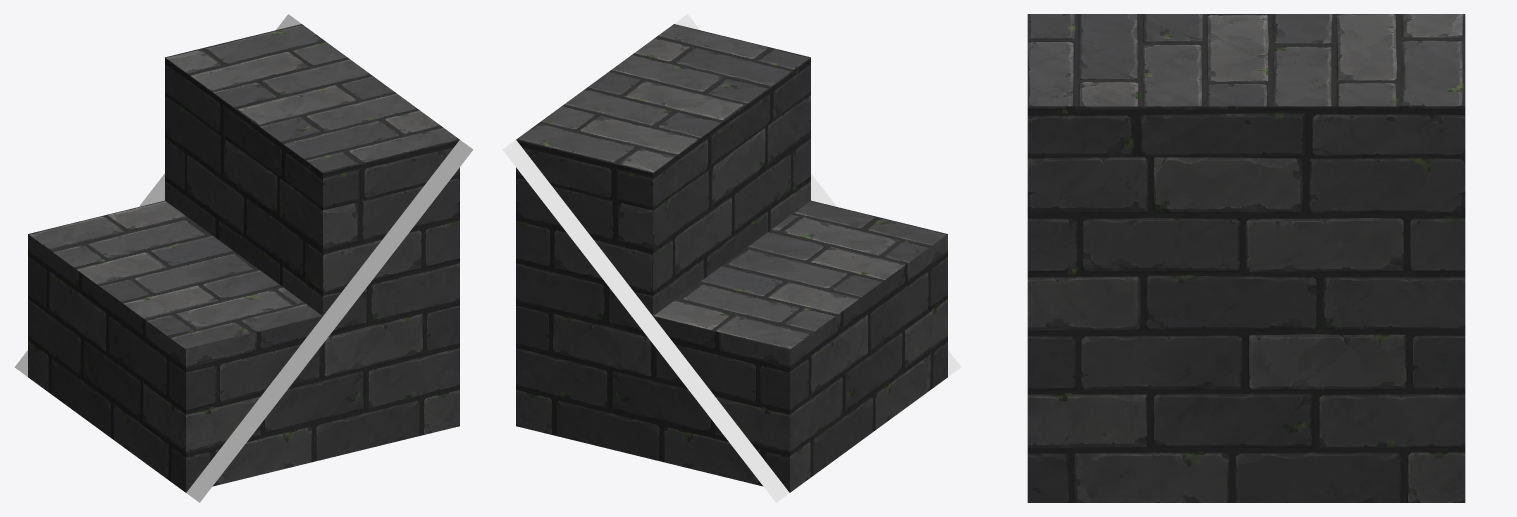
File: MapStair.gltf
The picture shows the model from 3 angles, left to right: view 1: azimuth 30°, elevation 25°; view 2: azimuth 150°, elevation 25°; view 3: azimuth 270°, elevation 25°; orthographic projection. The views are drawn at different scales.
Visible parts, largest first — view 1: MapStair, COL; view 2: MapStair, COL; view 3: MapStair.
Part boxes in pixels (x1,y1,x2,y2): MapStair: [28, 24, 459, 492]; COL: [14, 14, 473, 502]; MapStair: [516, 24, 947, 492]; COL: [502, 14, 961, 502]; MapStair: [1027, 14, 1465, 502].
Size of the model in its own units: 1 by 1 by 1.17.
Materials: 2 (2 with a texture image).
